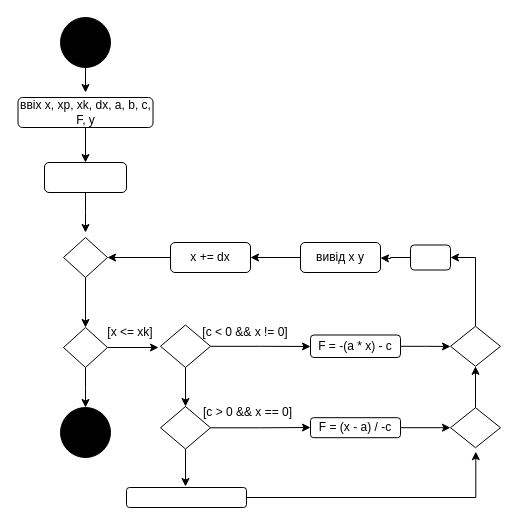
This 518x525 diagram has some shape labels left out. Each missing label, with the centre of its shape:
"F = (b * x) / (c - a)" goes at [186,497].
"x = xp" goes at [85,177].
"y = F" goes at [430,257].
